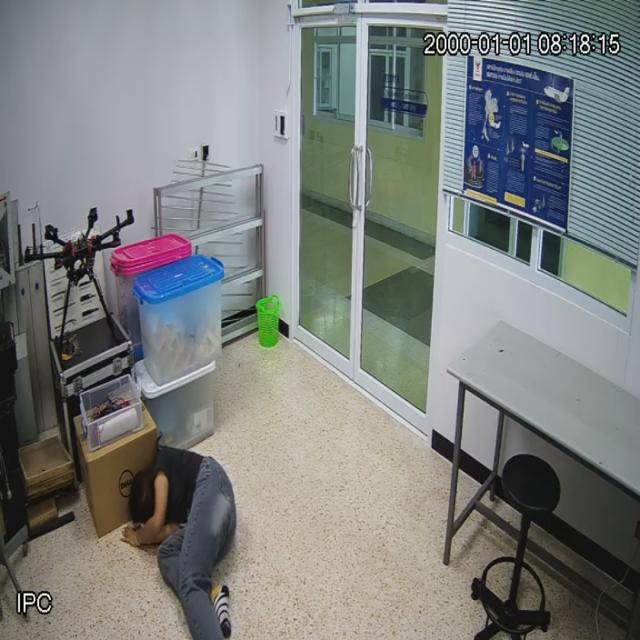fall: (121, 449, 238, 640)
